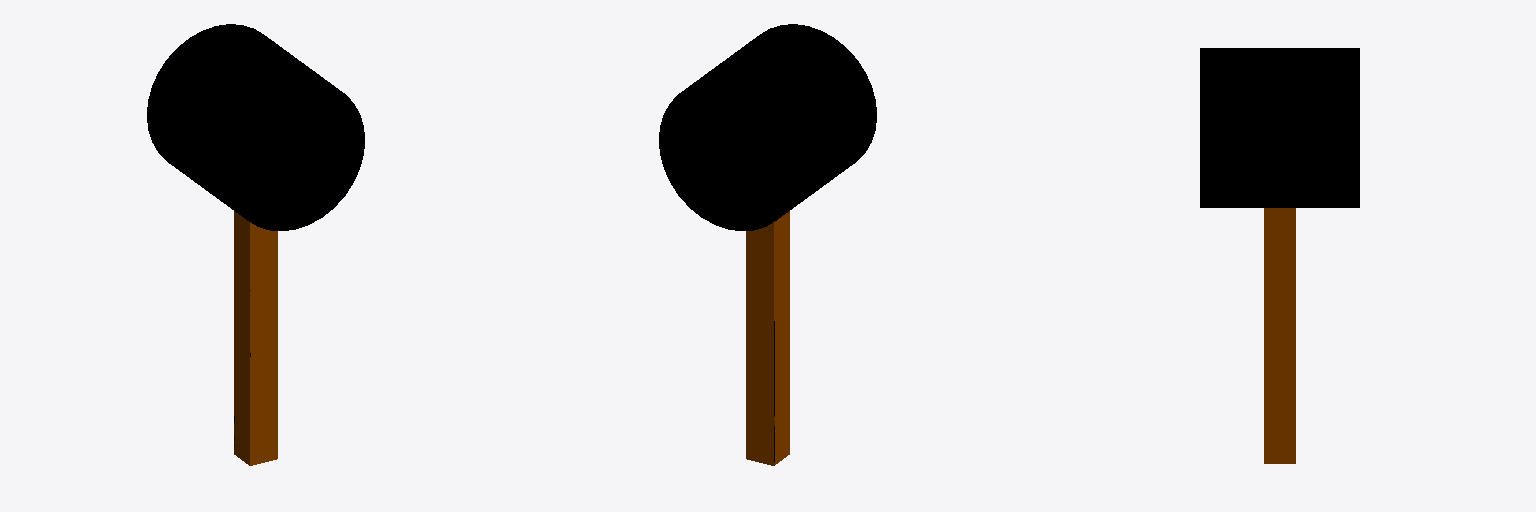
3 renders of one model, left to right at view 1: azimuth 30°, elevation 25°; view 2: azimuth 150°, elevation 25°; view 3: azimuth 270°, elevation 25°, orthographic.
Visible parts, largest first — view 1: 立方体.004; view 2: 立方体.004; view 3: 立方体.004.
Boxes of the visible parts, <box> form: 立方体.004: <box>147,24,364,465</box>; 立方体.004: <box>659,24,876,465</box>; 立方体.004: <box>1200,48,1359,463</box>.
Size of the model in its own units: 2 by 5.54 by 2.
Materials: 1 (1 with a texture image).